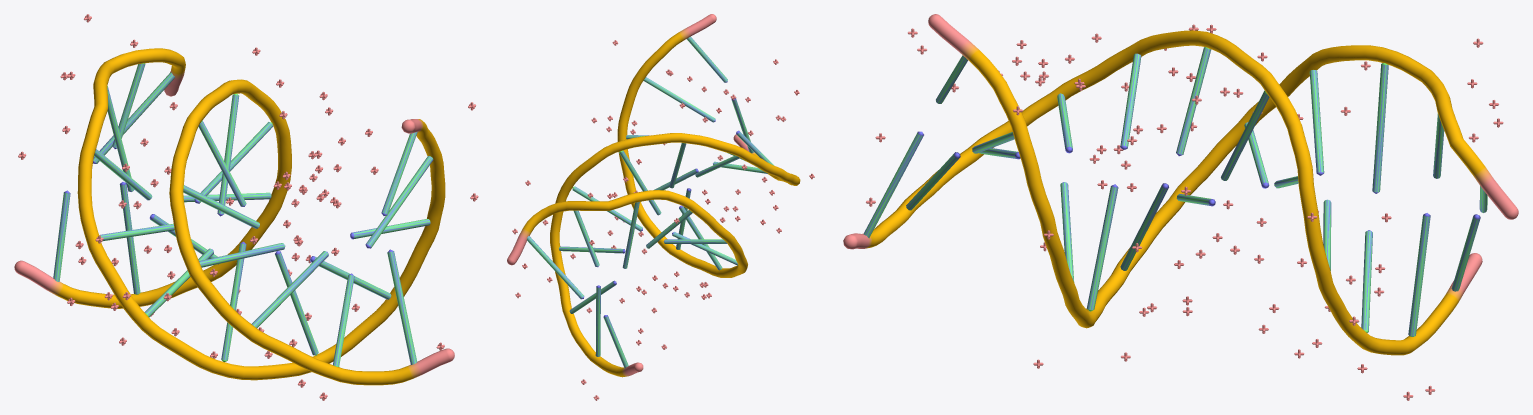
Rendered from dna_helix.glb.
3 renders of one model, left to right at view 1: azimuth 30°, elevation 25°; view 2: azimuth 150°, elevation 25°; view 3: azimuth 270°, elevation 25°, orthographic. The views are drawn at different scales.
Parts seen in each view (by area): view 1: node-geom0, geom24, geom2, geom22, geom18, geom14, geom5, geom12, geom6, geom20, geom23, geom13 (+12 smaller); view 2: node-geom0, geom12, geom2, geom10, geom14, geom18, geom11, geom7, geom1, geom16, geom6, geom17 (+3 smaller); view 3: node-geom0, geom10, geom5, geom14, geom24, geom19, geom9, geom15, geom18, geom20, geom4, geom6 (+1 smaller).
Part boxes in pixels (left/top/right/bottom): node-geom0: left=14, top=48, right=454, bottom=385; geom24: left=387, top=251, right=417, bottom=364; geom2: left=366, top=156, right=433, bottom=247; geom22: left=251, top=251, right=328, bottom=327; geom18: left=217, top=95, right=239, bottom=214; geom14: left=120, top=184, right=140, bottom=294; geom5: left=275, top=252, right=318, bottom=354; geom12: left=93, top=72, right=174, bottom=163; geom6: left=221, top=243, right=246, bottom=360; geom20: left=183, top=185, right=259, bottom=228; geom23: left=333, top=275, right=354, bottom=366; geom13: left=53, top=192, right=70, bottom=281; node-geom0: left=507, top=14, right=800, bottom=377; geom12: left=527, top=236, right=583, bottom=298; geom2: left=643, top=77, right=715, bottom=122; geom10: left=622, top=202, right=639, bottom=268; geom14: left=595, top=287, right=600, bottom=356; geom18: left=619, top=150, right=661, bottom=214; geom11: left=573, top=210, right=599, bottom=266; geom7: left=672, top=232, right=737, bottom=265; geom1: left=687, top=36, right=727, bottom=82; geom16: left=559, top=246, right=623, bottom=253; geom6: left=679, top=206, right=722, bottom=270; geom17: left=572, top=186, right=642, bottom=231; node-geom0: left=843, top=14, right=1518, bottom=355; geom10: left=1372, top=64, right=1388, bottom=192; geom5: left=1086, top=186, right=1118, bottom=309; geom14: left=1408, top=215, right=1430, bottom=336; geom24: left=863, top=133, right=923, bottom=238; geom19: left=1176, top=47, right=1211, bottom=154; geom9: left=1309, top=70, right=1324, bottom=172; geom15: left=1361, top=231, right=1372, bottom=331; geom18: left=1221, top=91, right=1269, bottom=180; geom20: left=1120, top=53, right=1141, bottom=147; geom4: left=1060, top=182, right=1074, bottom=282; geom6: left=1120, top=185, right=1168, bottom=270.
Bounding box in the file's own units: 26.55 × 29.26 × 43.47.
